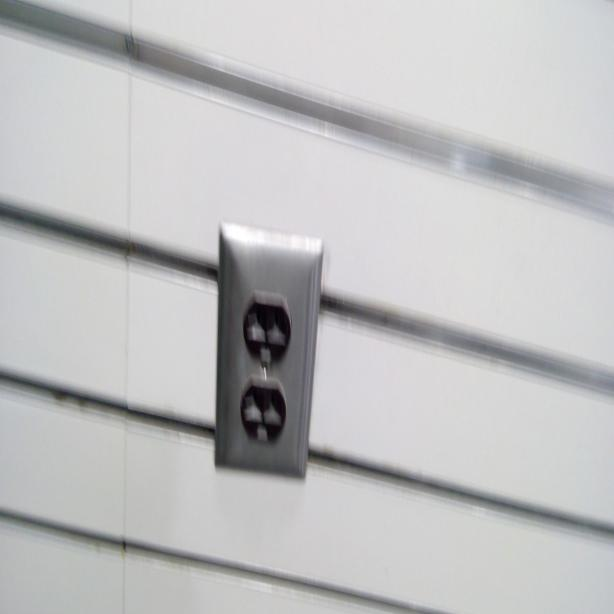typeb: (240, 296, 290, 368), (240, 382, 288, 442)
